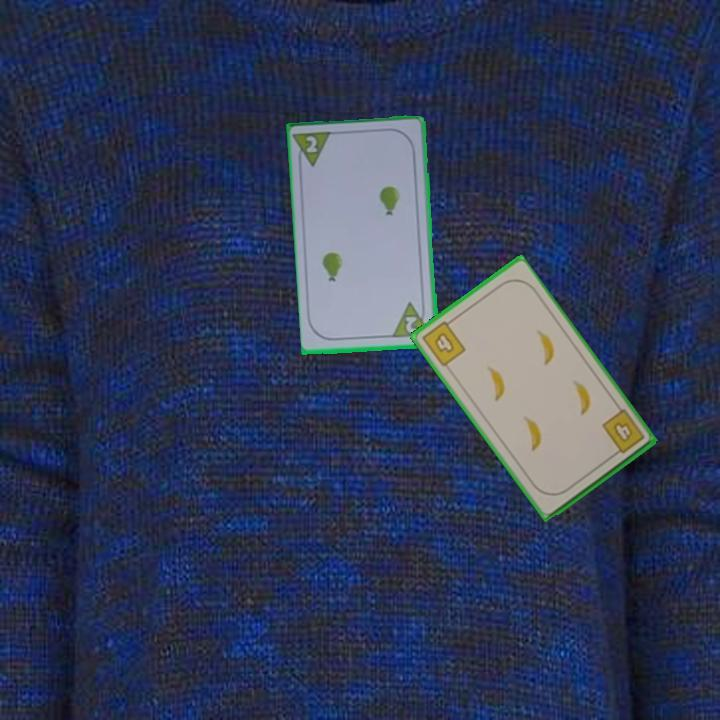2p: (291, 128, 336, 172), (402, 313, 420, 337)
4b: (418, 315, 468, 370), (598, 405, 647, 460)
